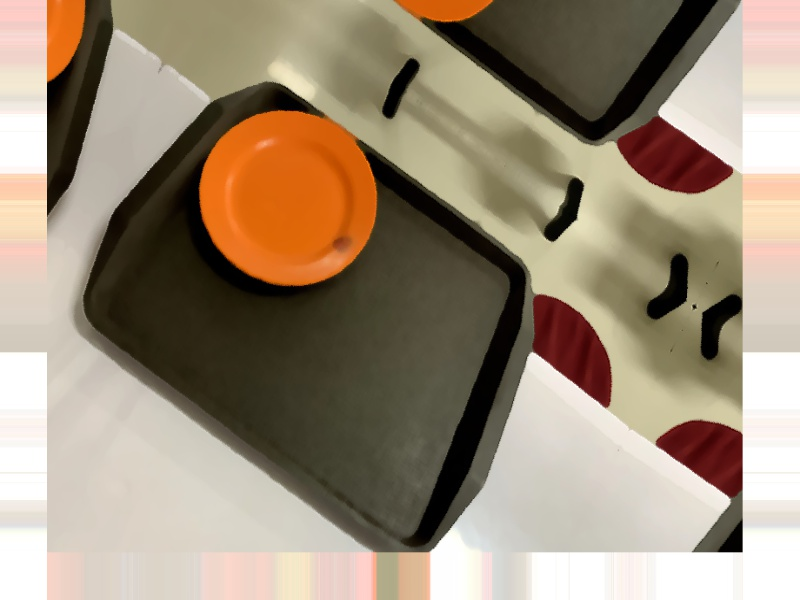dish10: (166, 59, 406, 337)
